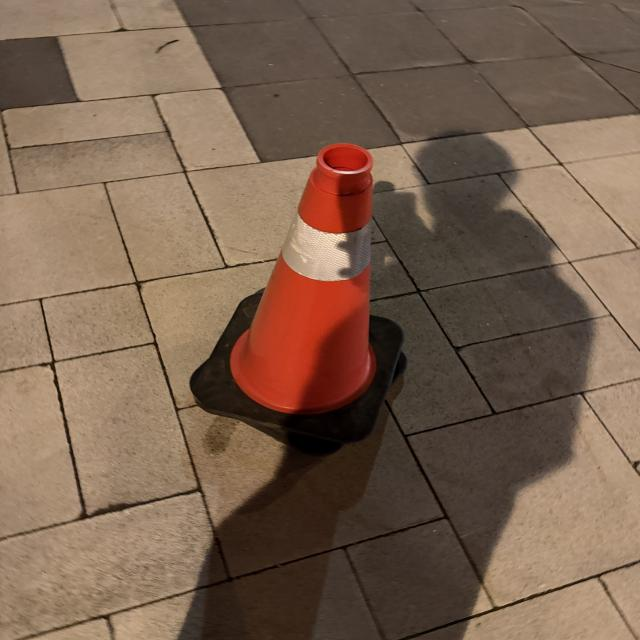Traffic Cone: (188, 144, 408, 441)
